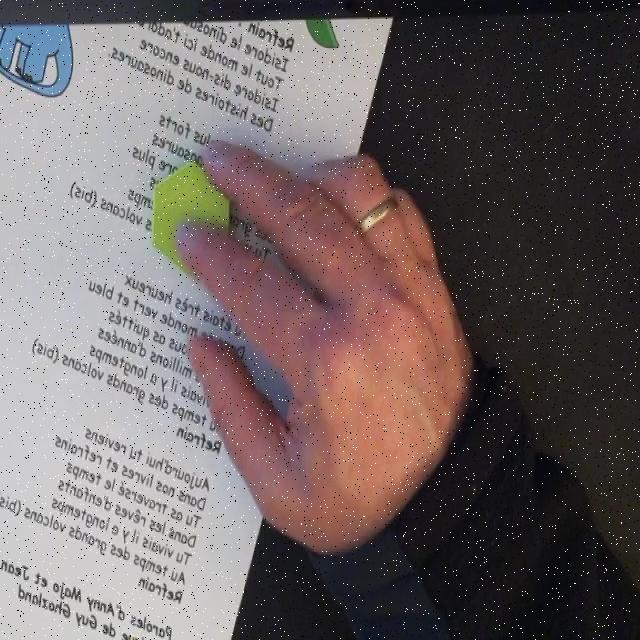hexagon: (149, 160, 232, 275)
